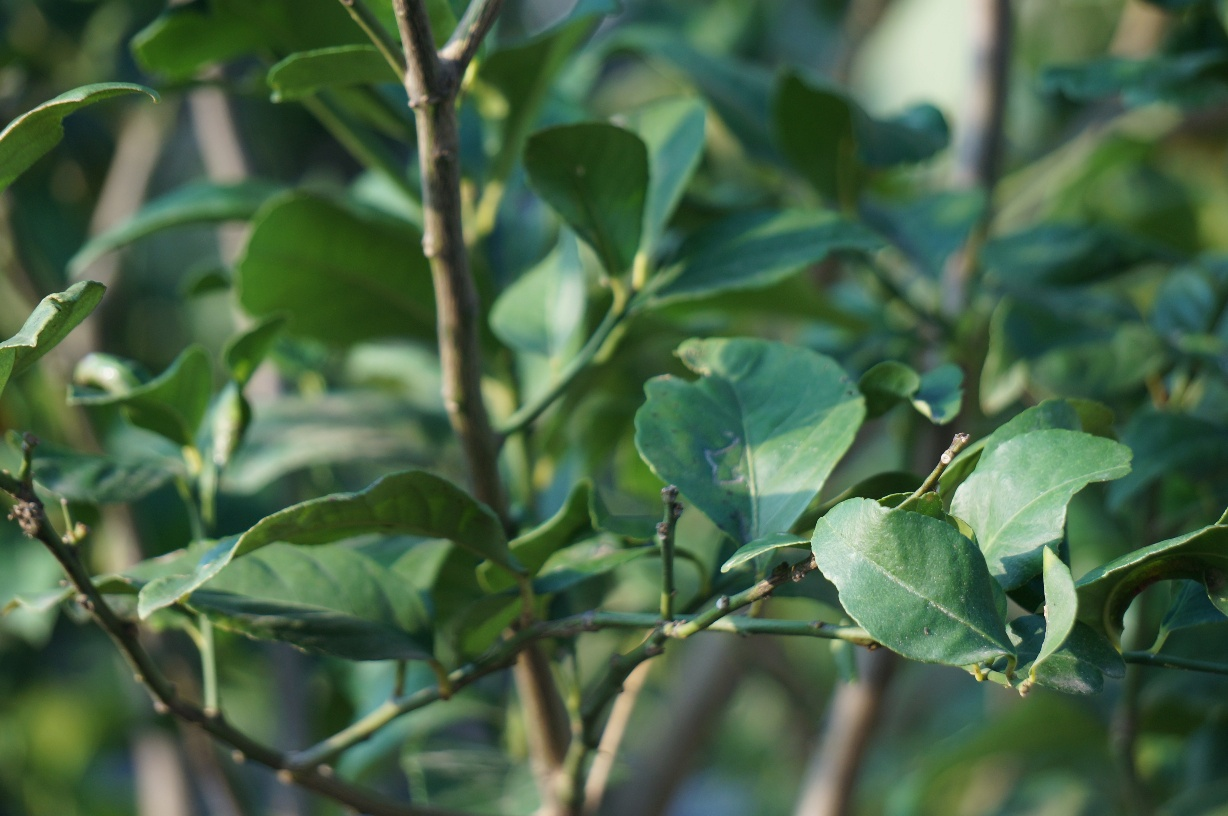damage: (687, 426, 755, 496)
